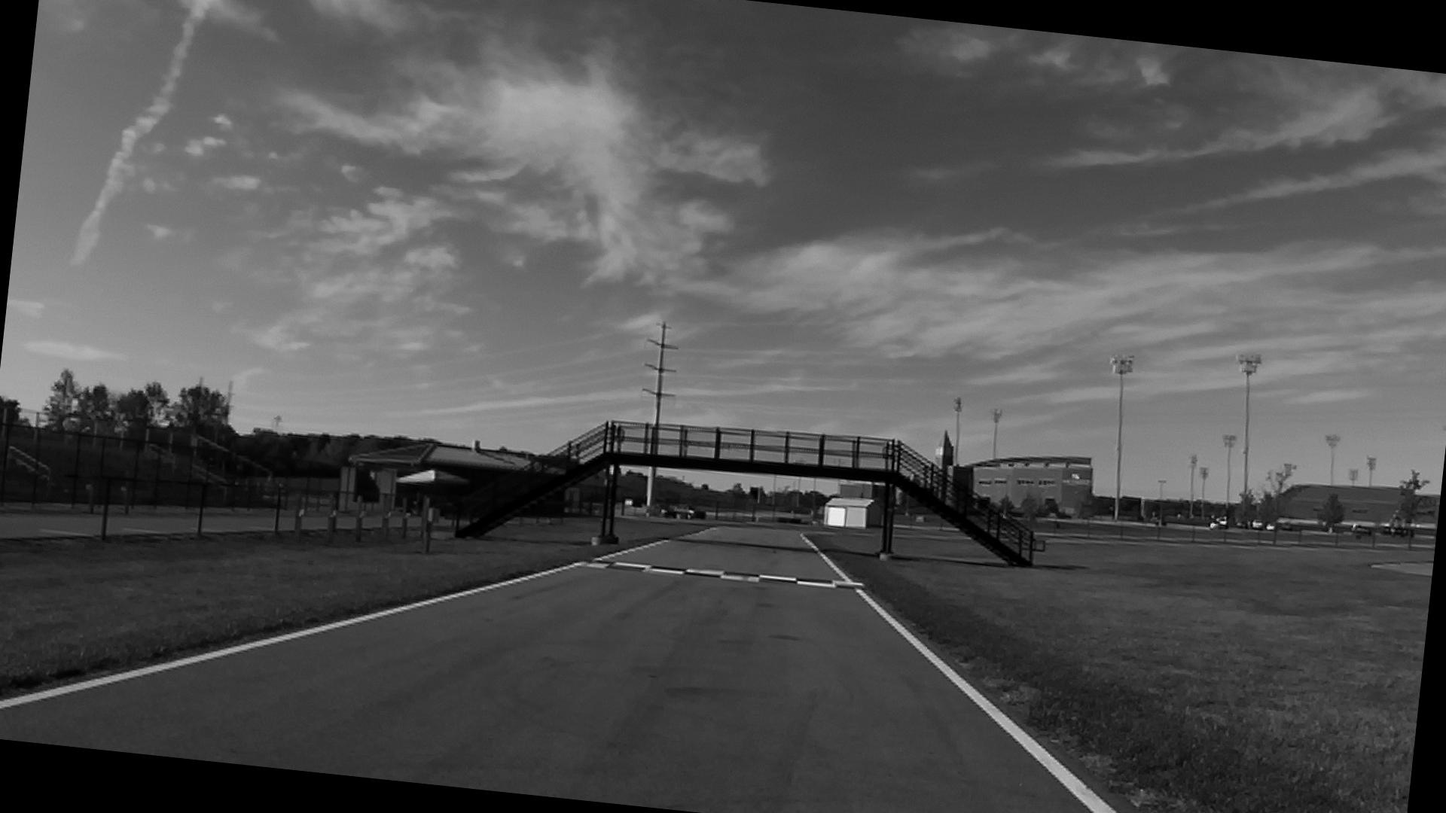white-line: (803, 534, 1121, 813), (0, 562, 581, 711), (589, 548, 636, 562), (635, 538, 672, 551)
